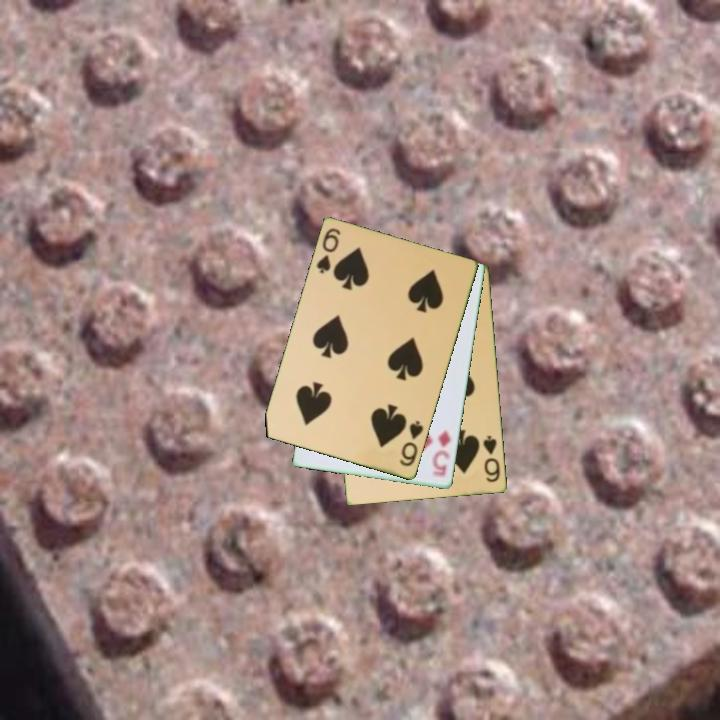5d: (429, 426, 454, 481)
6s: (313, 225, 344, 277), (396, 417, 426, 470), (480, 432, 503, 485)
